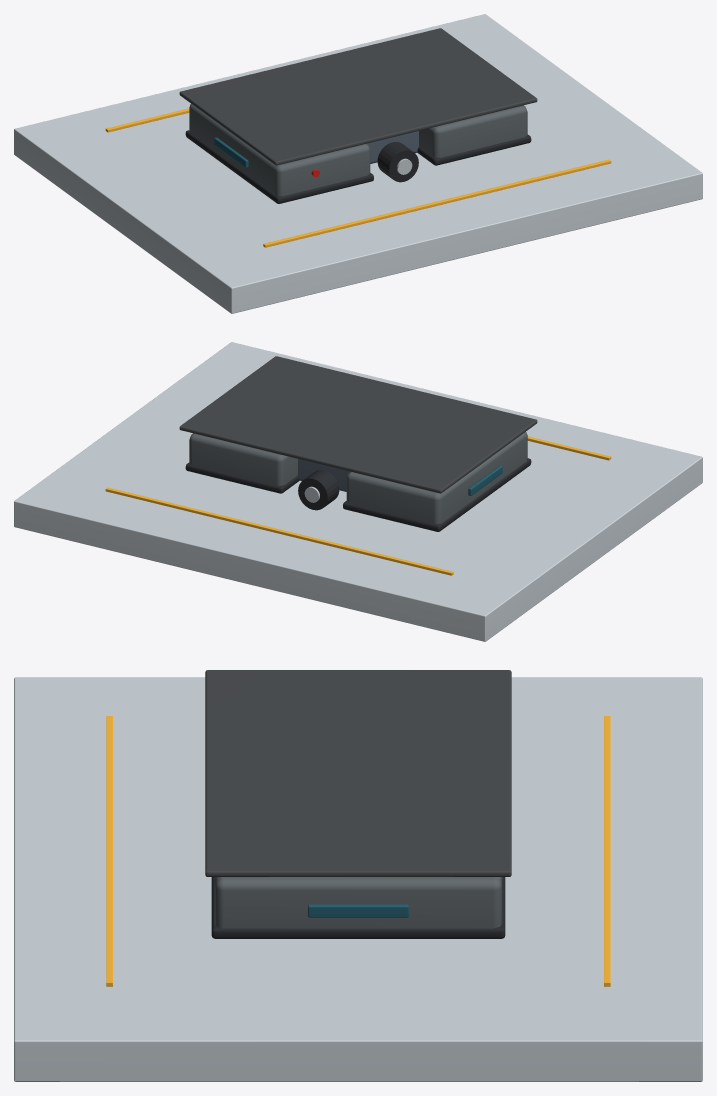
3 views of the same model, one above another, from view 1: azimuth 30°, elevation 25°; view 2: azimuth 150°, elevation 25°; view 3: azimuth 270°, elevation 25° (orthographic). The views are drawn at different scales.
Parts seen in each view (by area): view 1: Ground plane, Max lowered load deck, Max inferred end enclosure, Max inferred end enclosure.001, Concept clearance guide, Max inferred perimeter bumper, Max inferred drive tyre, Max inferred perimeter bumper.001, Max inferred central load spine; view 2: Ground plane, Max lowered load deck, Max inferred end enclosure, Max inferred end enclosure.001, Concept clearance guide.001, Max inferred perimeter bumper, Max inferred drive tyre.001, Max inferred perimeter bumper.001, Max inferred central load spine; view 3: Ground plane, Max lowered load deck, Max inferred end enclosure.001, Max inferred perimeter bumper.001, Concept clearance guide, Concept clearance guide.001, Max inferred navigation window.001.
Boxes of the visible parts, x1,y1,x2,y2 form: Ground plane: [14, 14, 702, 313]; Max lowered load deck: [179, 28, 537, 165]; Max inferred end enclosure: [189, 104, 370, 196]; Max inferred end enclosure.001: [419, 105, 527, 157]; Concept clearance guide: [263, 159, 611, 247]; Max inferred perimeter bumper: [185, 130, 373, 203]; Max inferred drive tyre: [377, 142, 418, 182]; Max inferred perimeter bumper.001: [417, 134, 531, 165]; Max inferred central load spine: [367, 131, 418, 163]; Ground plane: [14, 342, 702, 641]; Max lowered load deck: [179, 356, 537, 493]; Max inferred end enclosure: [346, 432, 527, 524]; Max inferred end enclosure.001: [189, 433, 297, 485]; Concept clearance guide.001: [105, 487, 453, 575]; Max inferred perimeter bumper: [343, 458, 531, 531]; Max inferred drive tyre.001: [298, 470, 339, 510]; Max inferred perimeter bumper.001: [185, 462, 299, 493]; Max inferred central load spine: [298, 459, 349, 491]; Ground plane: [14, 677, 702, 1081]; Max lowered load deck: [205, 670, 511, 876]; Max inferred end enclosure.001: [214, 877, 502, 928]; Max inferred perimeter bumper.001: [211, 877, 505, 938]; Concept clearance guide: [106, 716, 112, 986]; Concept clearance guide.001: [604, 716, 610, 986]; Max inferred navigation window.001: [308, 904, 408, 917].
Size of the model in its own units: 2.25 by 0.375 by 1.8.
